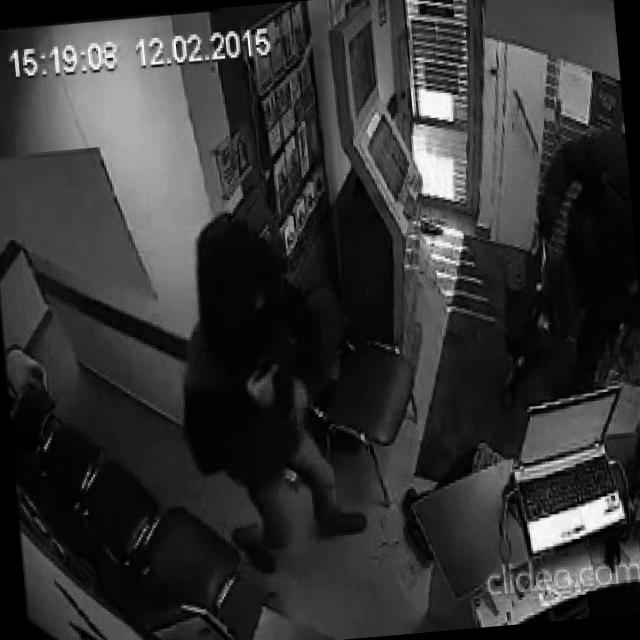gun: (244, 326, 298, 398)
person: (478, 114, 640, 405)
person with a gun: (166, 197, 371, 580)
